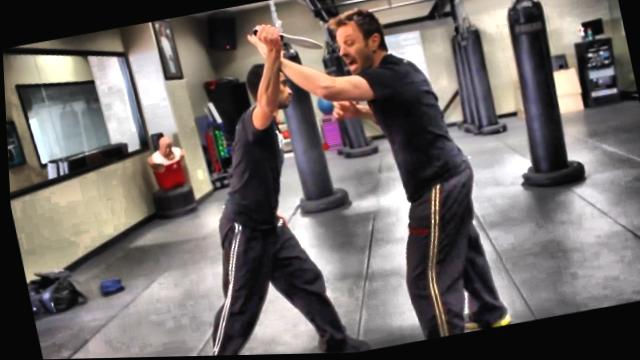knife: (247, 12, 324, 62)
